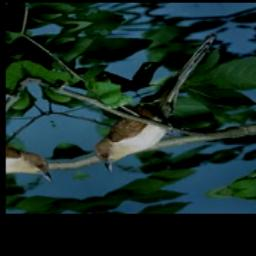Cuckoo: (42, 32, 256, 177)
